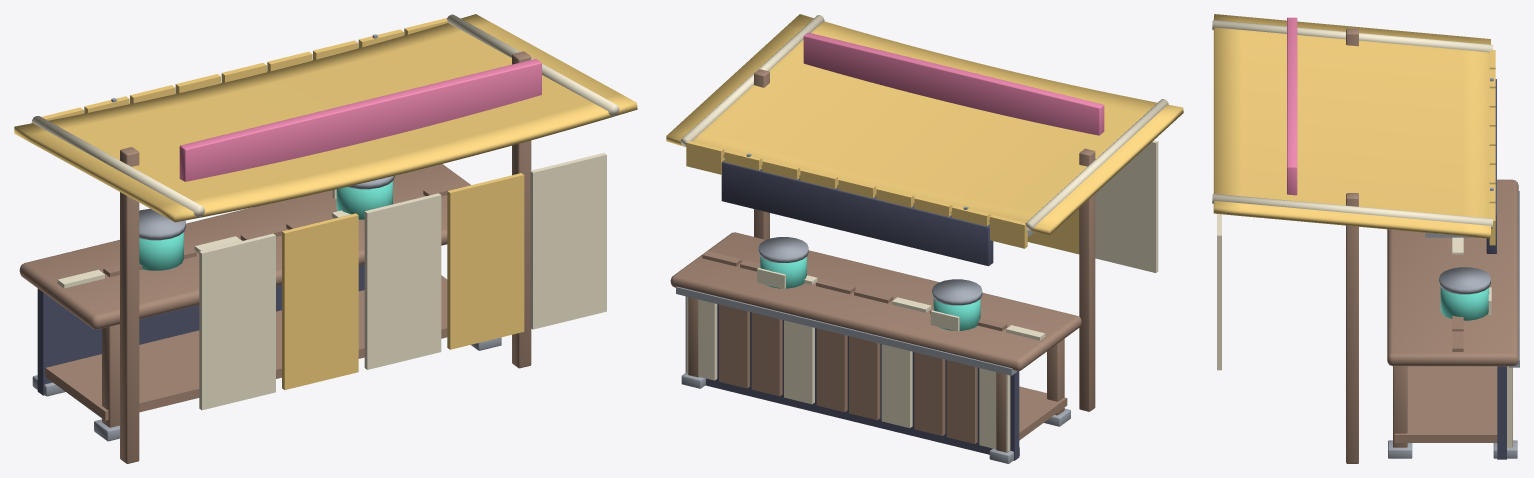
The model's file is FestivalStallStock.fbx.
3 renders of one model, left to right at view 1: azimuth 30°, elevation 25°; view 2: azimuth 150°, elevation 25°; view 3: azimuth 270°, elevation 25°, orthographic. The views are drawn at different scales.
Parts seen in each view (by area): view 1: FestivalStallStock CanvasGold__CanvasGold, FestivalStallStock CanvasCream__CanvasCream, FestivalStallStock Wood__Wood, FestivalStallStock Rose__Rose, FestivalStallStock Dark__Dark, FestivalStallStock Mint__Mint, FestivalStallStock Metal__Metal, FestivalStallStock Cream__Cream; view 2: FestivalStallStock CanvasGold__CanvasGold, FestivalStallStock Wood__Wood, FestivalStallStock Dark__Dark, FestivalStallStock Rose__Rose, FestivalStallStock Cream__Cream, FestivalStallStock CanvasCream__CanvasCream, FestivalStallStock Metal__Metal, FestivalStallStock Mint__Mint; view 3: FestivalStallStock CanvasGold__CanvasGold, FestivalStallStock Wood__Wood, FestivalStallStock CanvasCream__CanvasCream, FestivalStallStock Metal__Metal, FestivalStallStock Rose__Rose, FestivalStallStock Dark__Dark, FestivalStallStock Mint__Mint, FestivalStallStock Cream__Cream.
Boxes of the visible parts, box(x1,y1,x2,y2) form: FestivalStallStock CanvasGold__CanvasGold: box(14, 14, 637, 389); FestivalStallStock CanvasCream__CanvasCream: box(31, 14, 619, 410); FestivalStallStock Wood__Wood: box(19, 51, 531, 463); FestivalStallStock Rose__Rose: box(179, 59, 541, 181); FestivalStallStock Dark__Dark: box(37, 264, 364, 395); FestivalStallStock Mint__Mint: box(139, 181, 392, 270); FestivalStallStock Metal__Metal: box(32, 34, 501, 441); FestivalStallStock Cream__Cream: box(57, 189, 350, 288); FestivalStallStock CanvasGold__CanvasGold: box(666, 14, 1183, 254); FestivalStallStock Wood__Wood: box(670, 69, 1095, 452); FestivalStallStock Dark__Dark: box(685, 160, 1019, 460); FestivalStallStock Rose__Rose: box(803, 32, 1104, 135); FestivalStallStock Cream__Cream: box(686, 268, 1045, 451); FestivalStallStock CanvasCream__CanvasCream: box(680, 15, 1168, 272); FestivalStallStock Metal__Metal: box(676, 153, 1070, 463); FestivalStallStock Mint__Mint: box(760, 257, 980, 330); FestivalStallStock CanvasGold__CanvasGold: box(1213, 14, 1495, 245); FestivalStallStock Wood__Wood: box(1346, 28, 1518, 463); FestivalStallStock CanvasCream__CanvasCream: box(1212, 20, 1493, 370); FestivalStallStock Metal__Metal: box(1388, 78, 1519, 458); FestivalStallStock Rose__Rose: box(1287, 17, 1297, 195); FestivalStallStock Dark__Dark: box(1486, 79, 1506, 459); FestivalStallStock Mint__Mint: box(1440, 287, 1489, 320); FestivalStallStock Cream__Cream: box(1452, 237, 1512, 447).
Size of the model in its own units: 531 by 367 by 356.
